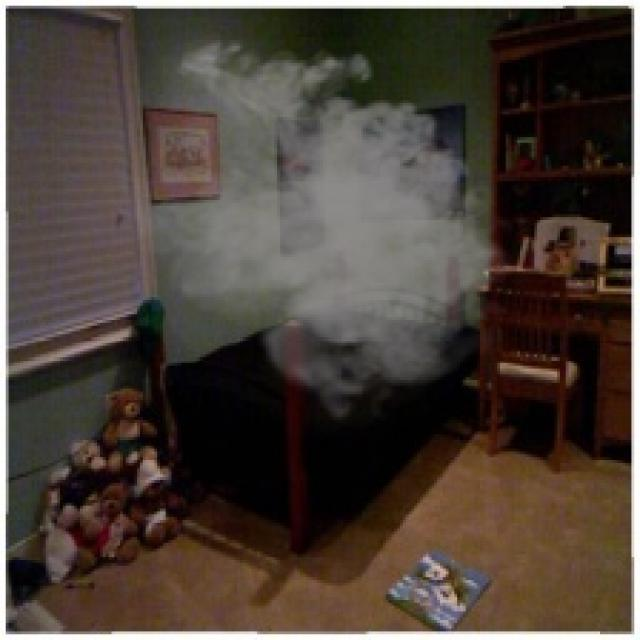smoke: (108, 28, 523, 423)
